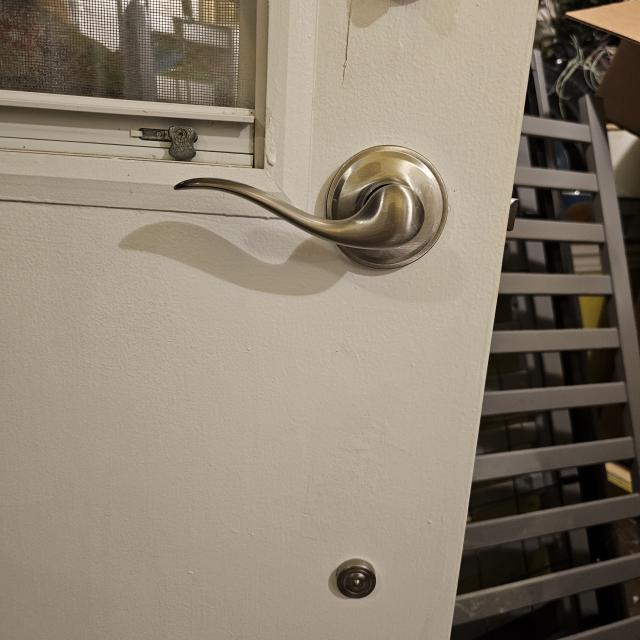door-handle: (175, 145, 448, 269)
